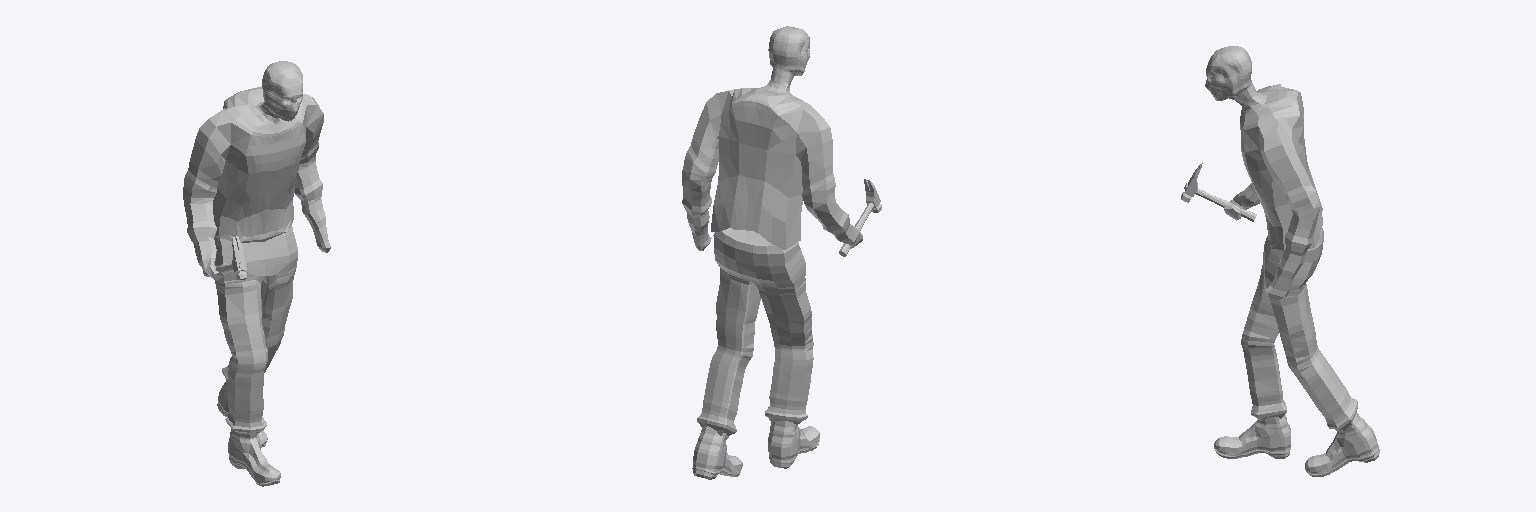
The model's file is Murderer_Attack_0251.obj.
The picture shows the model from 3 angles: view 1: azimuth 30°, elevation 25°; view 2: azimuth 150°, elevation 25°; view 3: azimuth 270°, elevation 25°; orthographic projection.
Visible parts, largest first — view 1: Körper, Beine, Stiefel, Hammer; view 2: Körper, Beine, Stiefel, Hammer; view 3: Körper, Beine, Stiefel, Hammer.
Boxes of the visible parts, x1=… form: Körper: x1=183, y1=61, x2=330, y2=280; Beine: x1=214, y1=225, x2=297, y2=433; Stiefel: x1=217, y1=380, x2=280, y2=486; Hammer: x1=203, y1=236, x2=246, y2=280; Körper: x1=682, y1=26, x2=862, y2=250; Beine: x1=697, y1=228, x2=813, y2=438; Stiefel: x1=692, y1=421, x2=819, y2=479; Hammer: x1=839, y1=179, x2=881, y2=256; Körper: x1=1205, y1=46, x2=1322, y2=299; Beine: x1=1241, y1=228, x2=1357, y2=430; Stiefel: x1=1214, y1=413, x2=1379, y2=476; Hammer: x1=1181, y1=163, x2=1256, y2=221.
Size of the model in its own units: 0.3517 by 0.9619 by 0.4167.